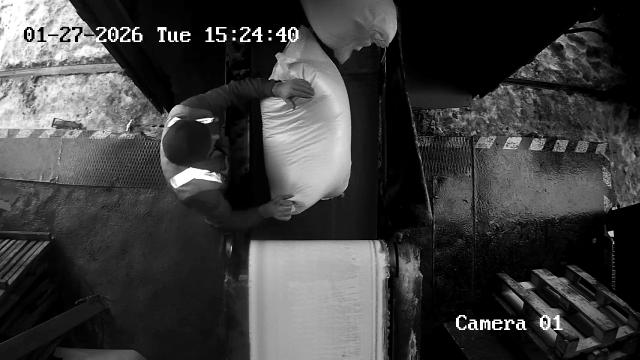bag: (262, 28, 352, 216), (304, 0, 398, 64)
